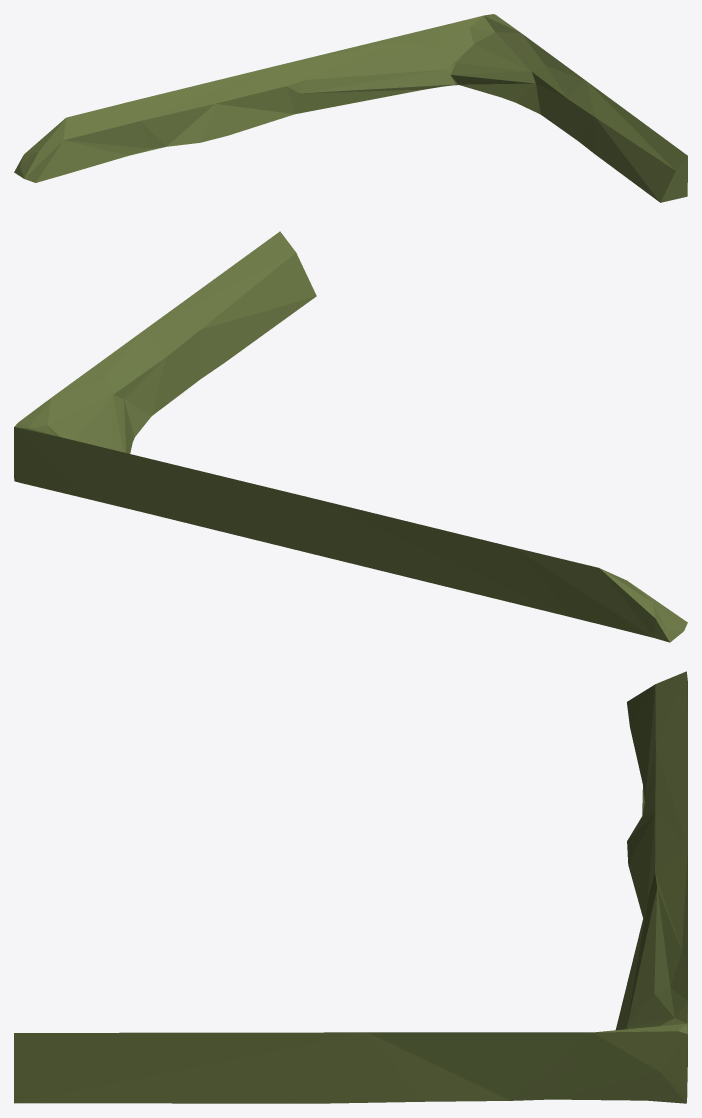
File: ground_52.fbx
3 renders of one model, top to bottom at view 1: azimuth 30°, elevation 25°; view 2: azimuth 150°, elevation 25°; view 3: azimuth 270°, elevation 25°, orthographic. The views are drawn at different scales.
Visible parts, largest first — view 1: ground_52; view 2: ground_52; view 3: ground_52.
Part boxes in pixels (left/top/right/bottom): ground_52: left=14, top=14, right=687, bottom=202; ground_52: left=14, top=231, right=687, bottom=642; ground_52: left=14, top=671, right=687, bottom=1103.
Size of the model in its own units: 7.26 by 0.6147 by 5.1.
